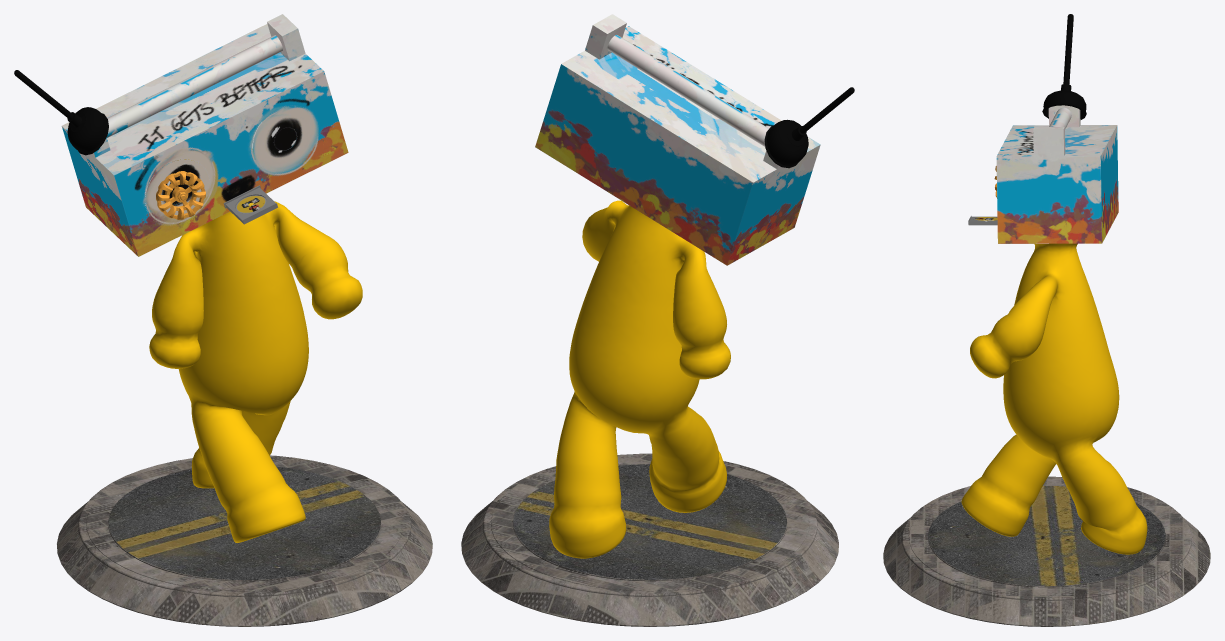
The model's file is 334_sanitized.glb.
3 renders of one model, left to right at view 1: azimuth 30°, elevation 25°; view 2: azimuth 150°, elevation 25°; view 3: azimuth 270°, elevation 25°, orthographic. The views are drawn at different scales.
Visible parts, largest first — view 1: BBody; view 2: BBody; view 3: BBody.
Boxes of the visible parts, <box> form: BBody: <box>14,14,432,626</box>; BBody: <box>461,14,854,626</box>; BBody: <box>883,14,1210,626</box>.
Bounding box in the file's own units: 1.68 × 2.21 × 1.45.
10 materials, 5 textured.
